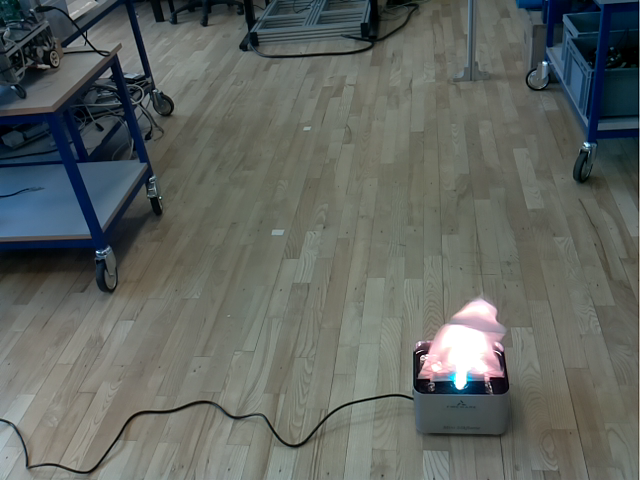fire: (418, 298, 506, 382)
